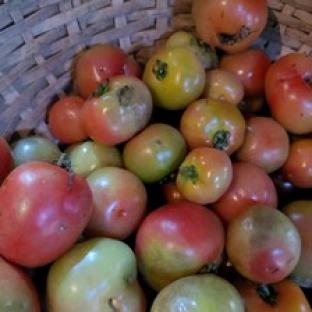Tomato: (0, 162, 91, 267), (136, 201, 225, 291), (46, 237, 146, 311), (226, 205, 300, 282), (81, 76, 153, 146), (85, 166, 147, 239), (212, 162, 278, 222), (143, 46, 204, 110), (123, 123, 188, 183), (265, 53, 311, 135), (74, 44, 142, 98), (180, 98, 245, 154), (151, 273, 245, 311), (176, 147, 232, 204), (234, 116, 289, 172), (282, 200, 311, 288), (221, 48, 271, 97), (234, 279, 310, 311), (0, 257, 40, 311), (165, 30, 218, 69), (66, 140, 122, 176), (48, 95, 87, 143), (201, 67, 243, 104), (280, 138, 311, 188), (12, 136, 61, 167), (0, 136, 13, 183), (162, 180, 186, 203)
